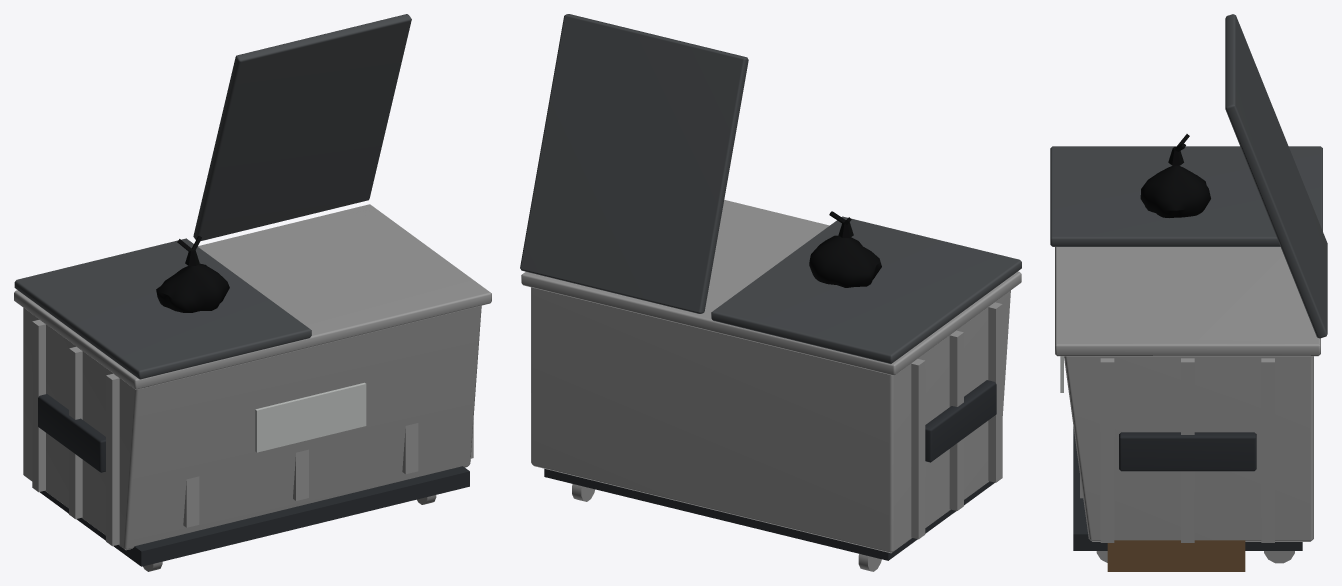
Rendered from St_Dumpster_Blue.fbx.
3 views of the same model, side by side, from view 1: azimuth 30°, elevation 25°; view 2: azimuth 150°, elevation 25°; view 3: azimuth 270°, elevation 25° (orthographic). The views are drawn at different scales.
Visible parts, largest first — view 1: St_Dumpster_Blue_LOD0; view 2: St_Dumpster_Blue_LOD0; view 3: St_Dumpster_Blue_LOD0.
Boxes of the visible parts, box(x1,y1,x2,y2) form: St_Dumpster_Blue_LOD0: box(14, 14, 491, 571); St_Dumpster_Blue_LOD0: box(520, 14, 1021, 571); St_Dumpster_Blue_LOD0: box(1050, 14, 1327, 571).
Size of what is drawn, in the model's own units: 2.02 by 2.3 by 1.21.
